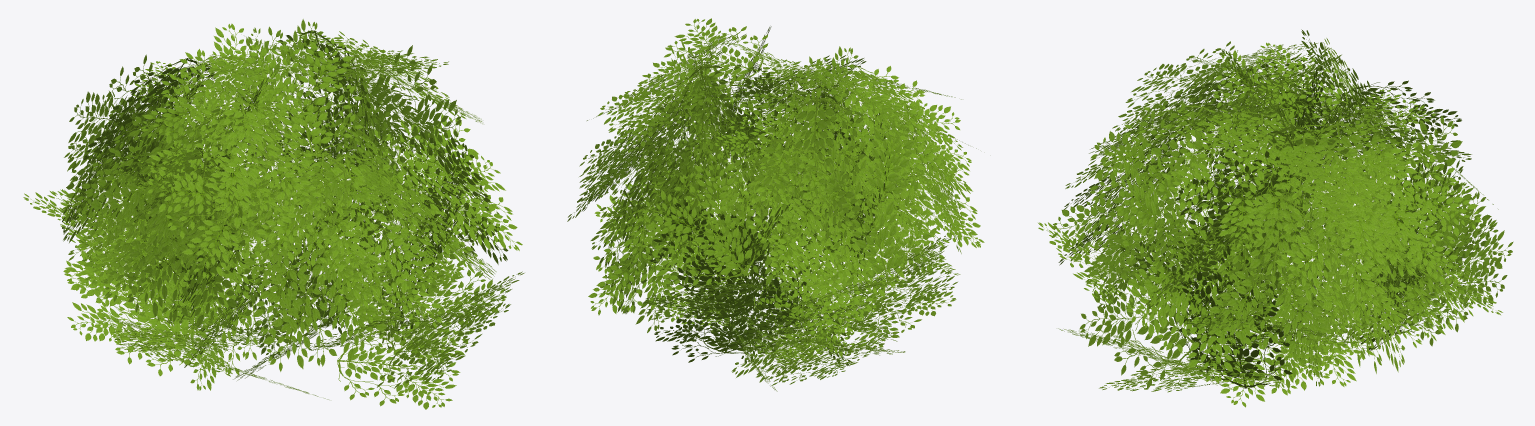
The model's file is Bush.glb.
The picture shows the model from 3 angles, left to right: view 1: azimuth 30°, elevation 25°; view 2: azimuth 150°, elevation 25°; view 3: azimuth 270°, elevation 25°; orthographic projection. The views are drawn at different scales.
Visible parts, largest first — view 1: Bush; view 2: Bush; view 3: Bush.
Part boxes in pixels (left/top/right/bottom): Bush: left=23, top=19, right=524, bottom=409; Bush: left=567, top=18, right=984, bottom=391; Bush: left=1038, top=29, right=1513, bottom=407.
Size of the model in its own units: 1.51 by 1.25 by 1.66.
Materials: 1 (1 with a texture image).
